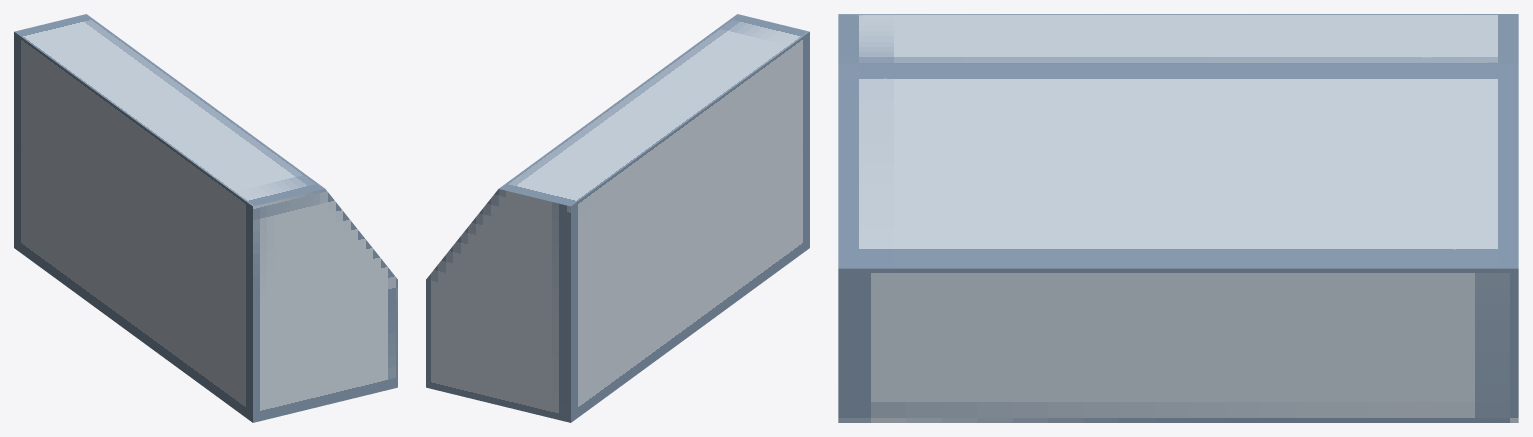
The model's file is city_building1.fbx.
3 views of the same model, side by side, from view 1: azimuth 30°, elevation 25°; view 2: azimuth 150°, elevation 25°; view 3: azimuth 270°, elevation 25° (orthographic). The views are drawn at different scales.
Visible parts, largest first — view 1: Cube; view 2: Cube; view 3: Cube.
Part boxes in pixels (<box>): Cube: <box>14,14,397,422</box>; Cube: <box>426,14,809,422</box>; Cube: <box>838,14,1518,422</box>.
Bounding box in the file's own units: 0.7 × 1 × 2.
